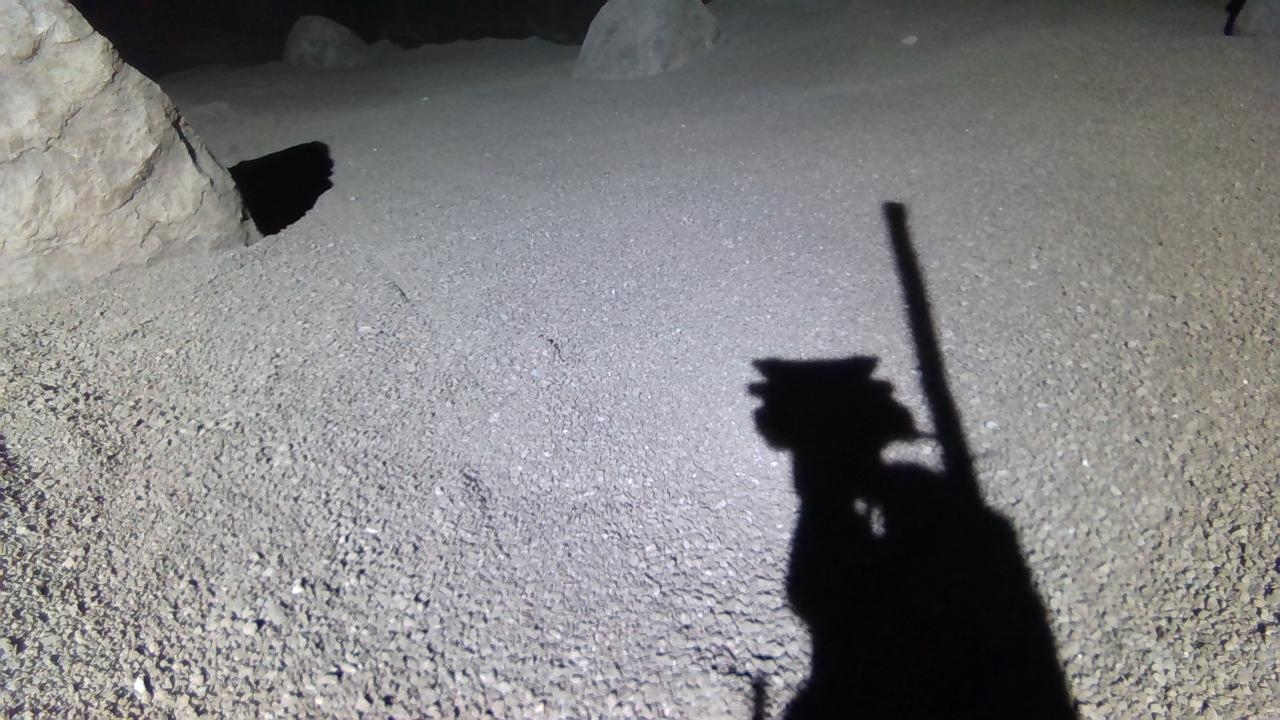rock: (0, 0, 259, 298), (573, 0, 721, 78), (283, 14, 371, 65), (1235, 0, 1280, 36)
